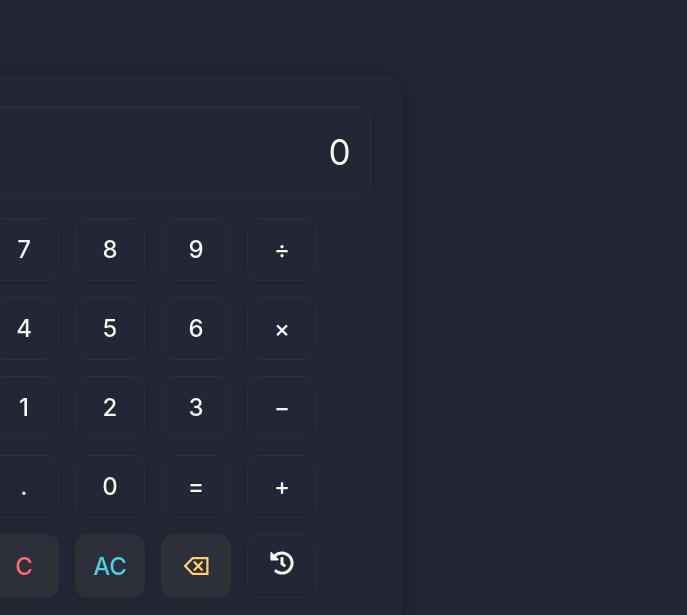
Calculator › history updates after calculation
This screenshot has width=687, height=615.
Click the button "2".
click(110, 408)  # box [75, 376, 145, 439]
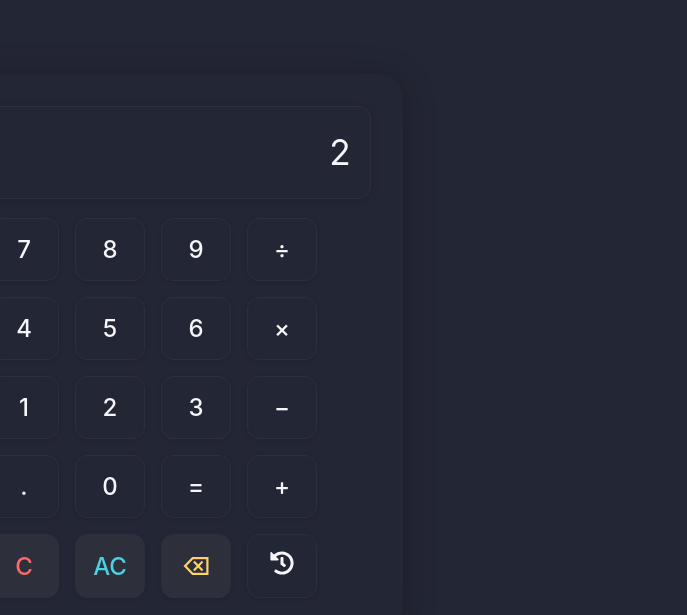
Click the button "×".
click(282, 329)  # box [247, 297, 317, 360]
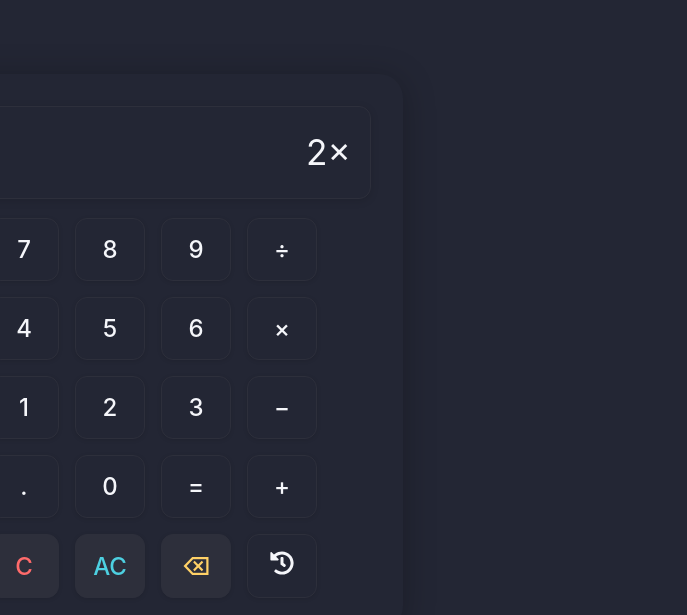
Click the button "3".
click(196, 408)  # box [161, 376, 231, 439]
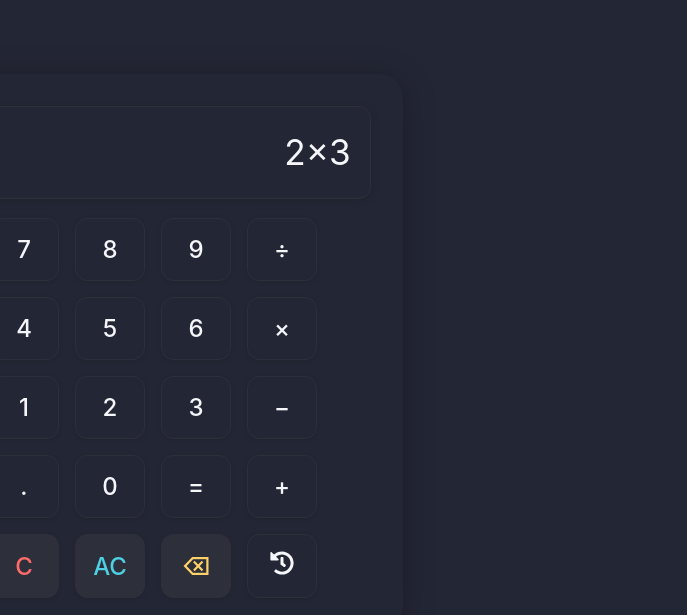
Click the button "=".
click(196, 487)  # box [161, 455, 231, 518]
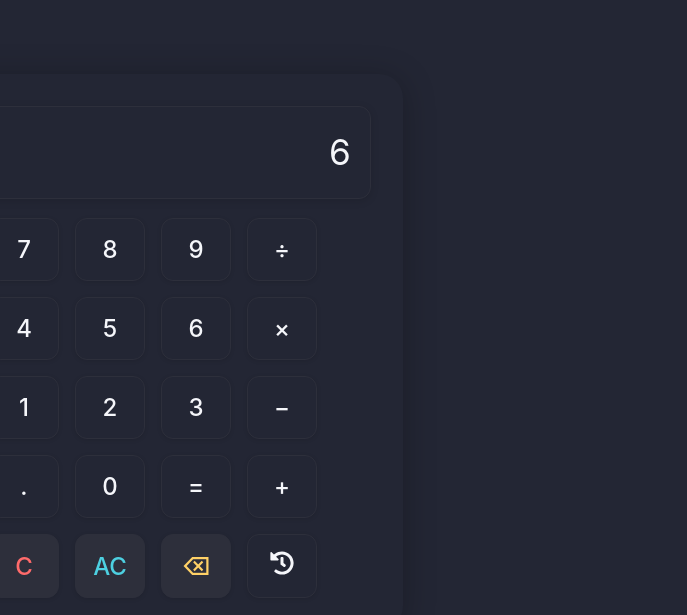
Open history panel
Click the button named "History".
click(282, 566)  # box [247, 534, 317, 598]
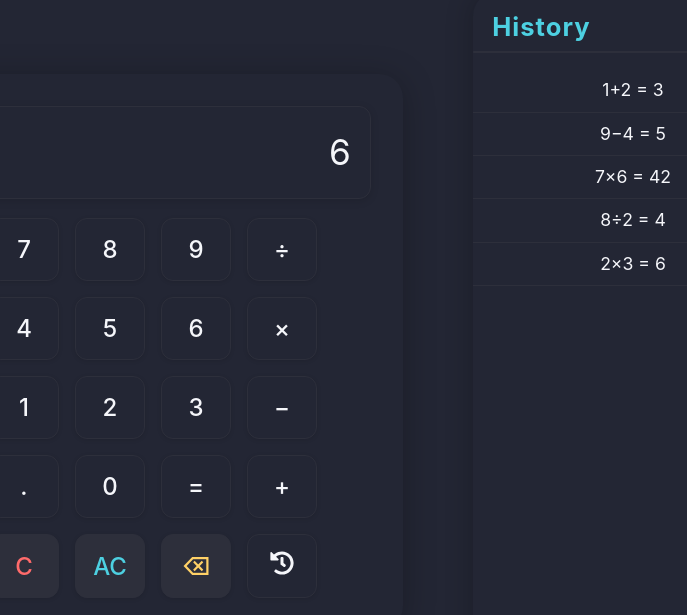
Check: the text "2×3" is shown, box [600, 253, 633, 274]
